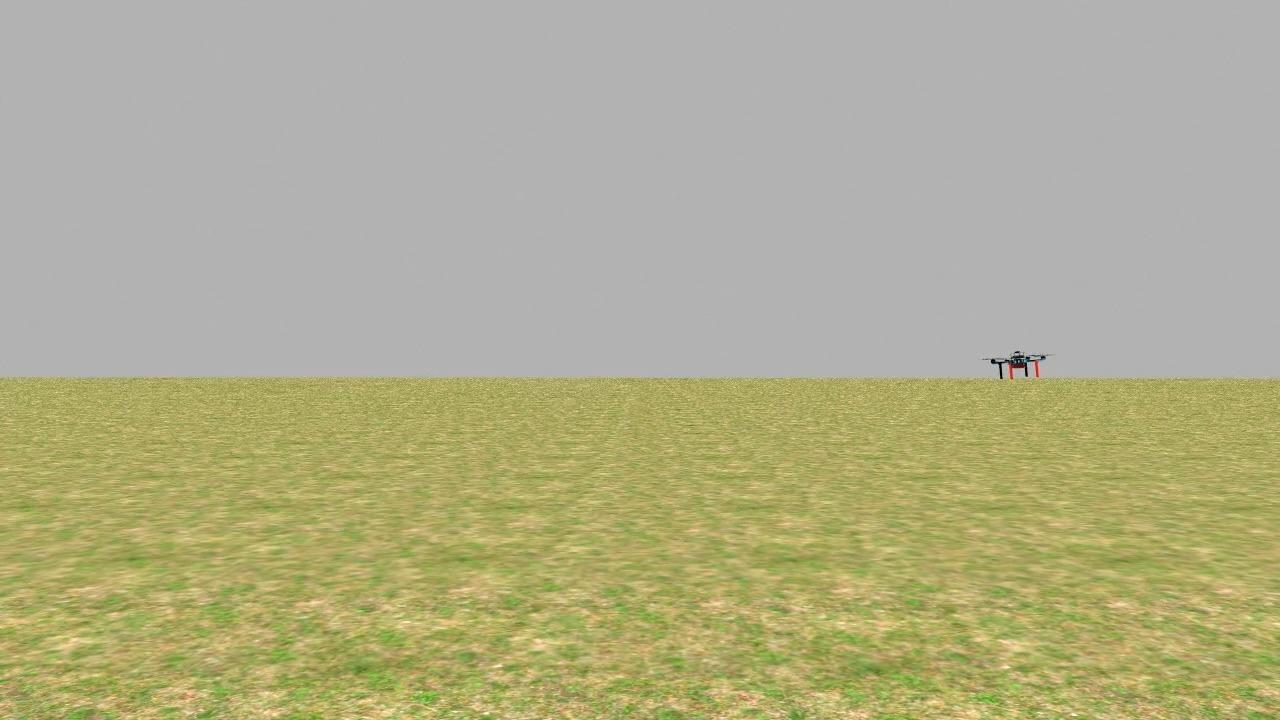UAV: (981, 342, 1057, 389)
